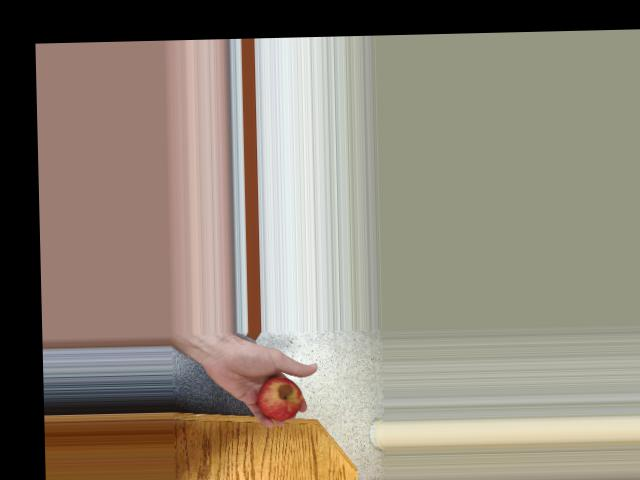apple: (249, 371, 310, 423)
